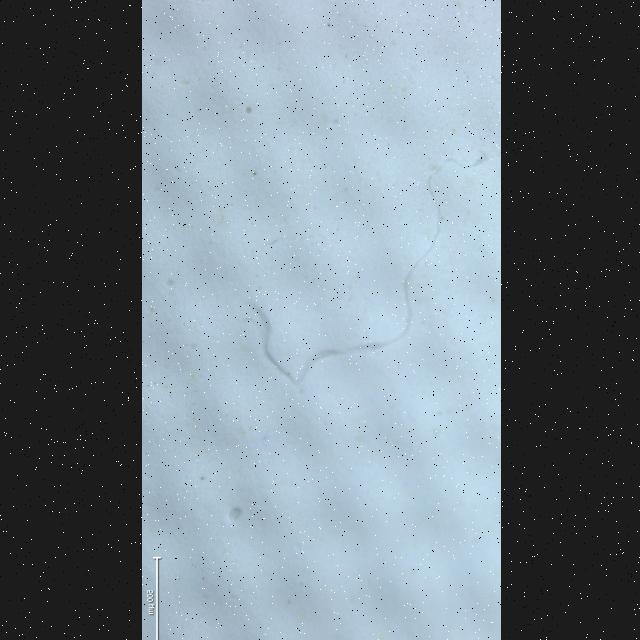Fibre: (256, 153, 485, 384)
Fragment: (227, 508, 239, 521)
